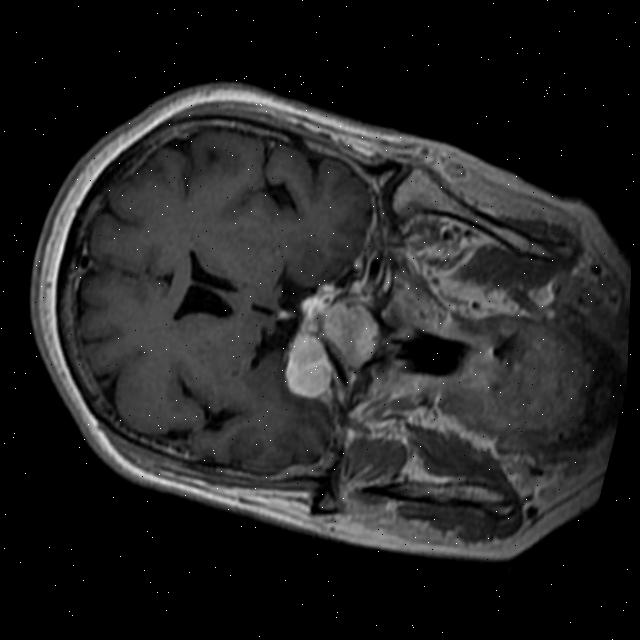Meningioma: (276, 326, 343, 403)
Pituitary: (295, 301, 382, 367), (293, 275, 333, 332)
